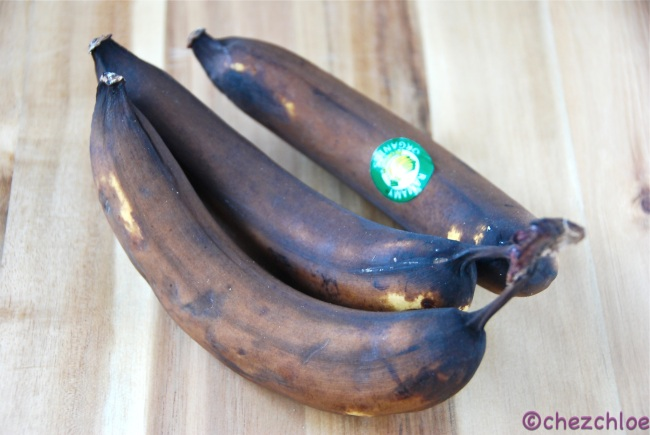looks_defective: (48, 37, 596, 432)
